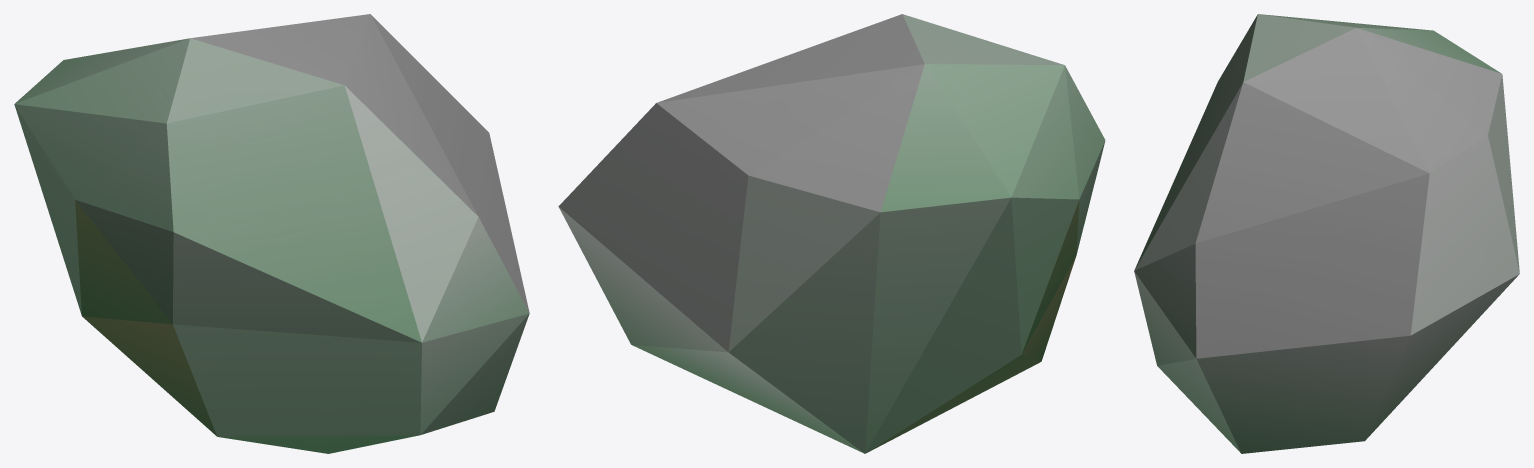
Rendered from rock_big_round_mossy.fbx.
3 renders of one model, left to right at view 1: azimuth 30°, elevation 25°; view 2: azimuth 150°, elevation 25°; view 3: azimuth 270°, elevation 25°, orthographic. The views are drawn at different scales.
Parts seen in each view (by area): view 1: rock_big_round_mossy; view 2: rock_big_round_mossy; view 3: rock_big_round_mossy.
Boxes of the visible parts, left/top/right/bottom form: rock_big_round_mossy: left=14, top=14, right=529, bottom=453; rock_big_round_mossy: left=558, top=14, right=1105, bottom=453; rock_big_round_mossy: left=1134, top=14, right=1519, bottom=453.
Size of the model in its own units: 2.5 by 2 by 2.1.
Materials: 1 (1 with a texture image).
